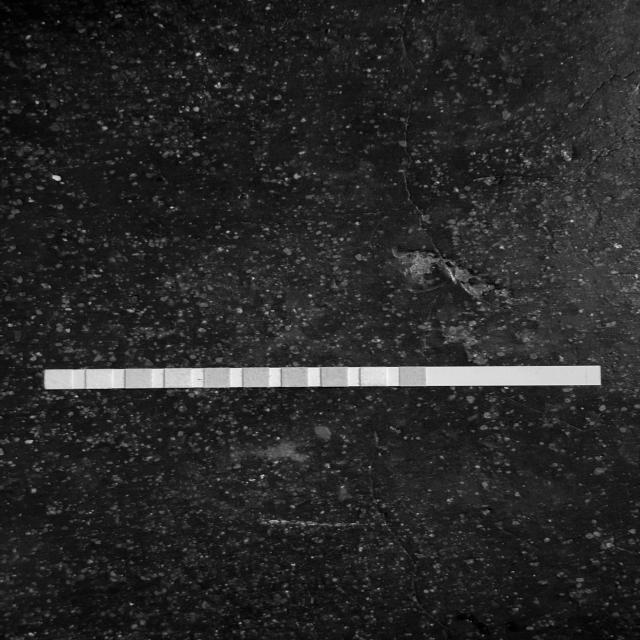Bilirubin: (361, 368, 386, 386)
Blood: (244, 368, 269, 387)
Glucose: (401, 367, 425, 386)
Ketone: (322, 368, 347, 387)
Leukocytes: (45, 370, 72, 389)
Nitrite: (87, 370, 112, 388)
Protein: (166, 369, 191, 387)
SpGravity: (282, 368, 307, 386)
Urobilinogen: (126, 369, 151, 388)
background: (0, 0, 640, 640)
pH: (206, 369, 229, 387)
strip: (45, 366, 602, 390)
